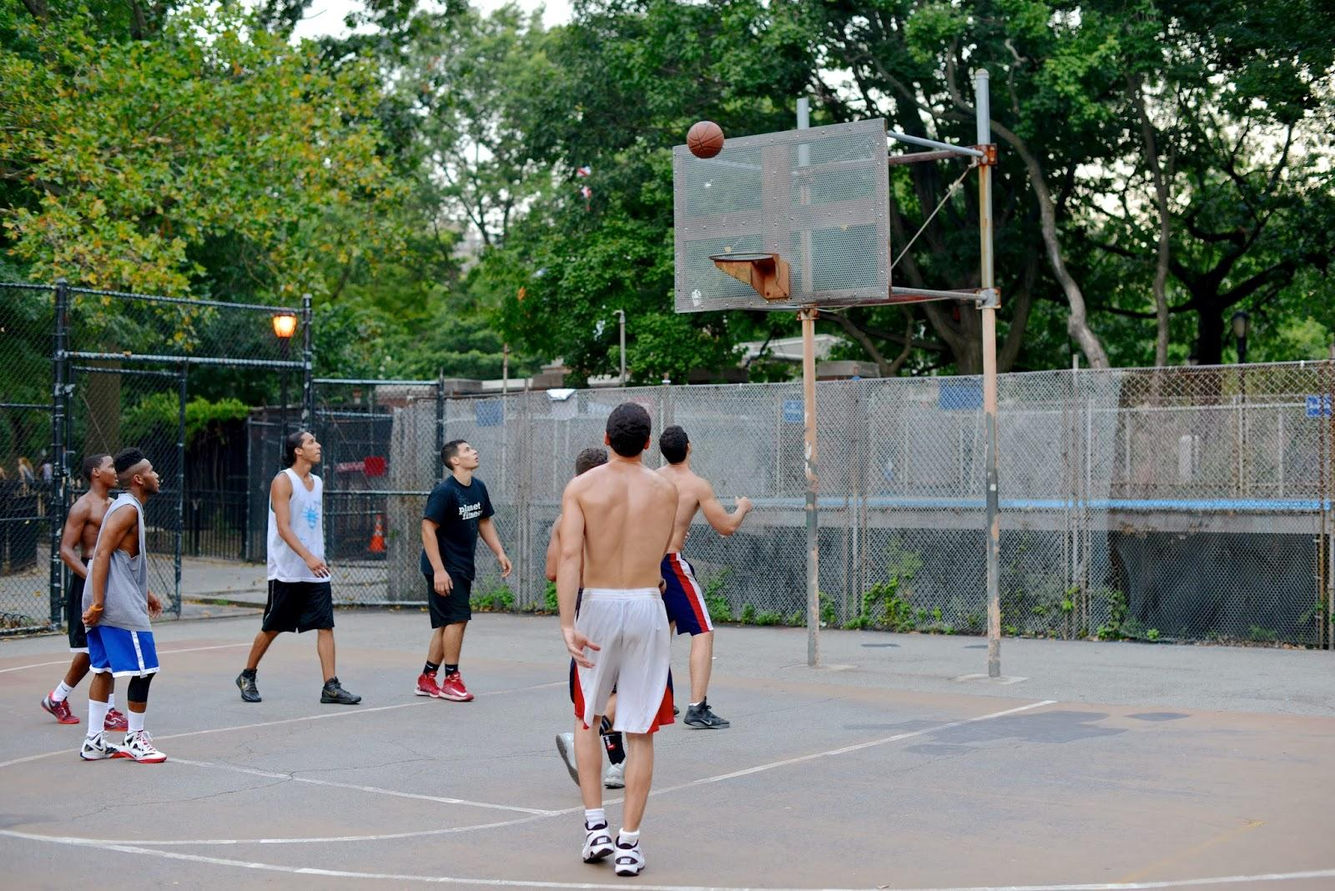basketball: (685, 119, 724, 159)
